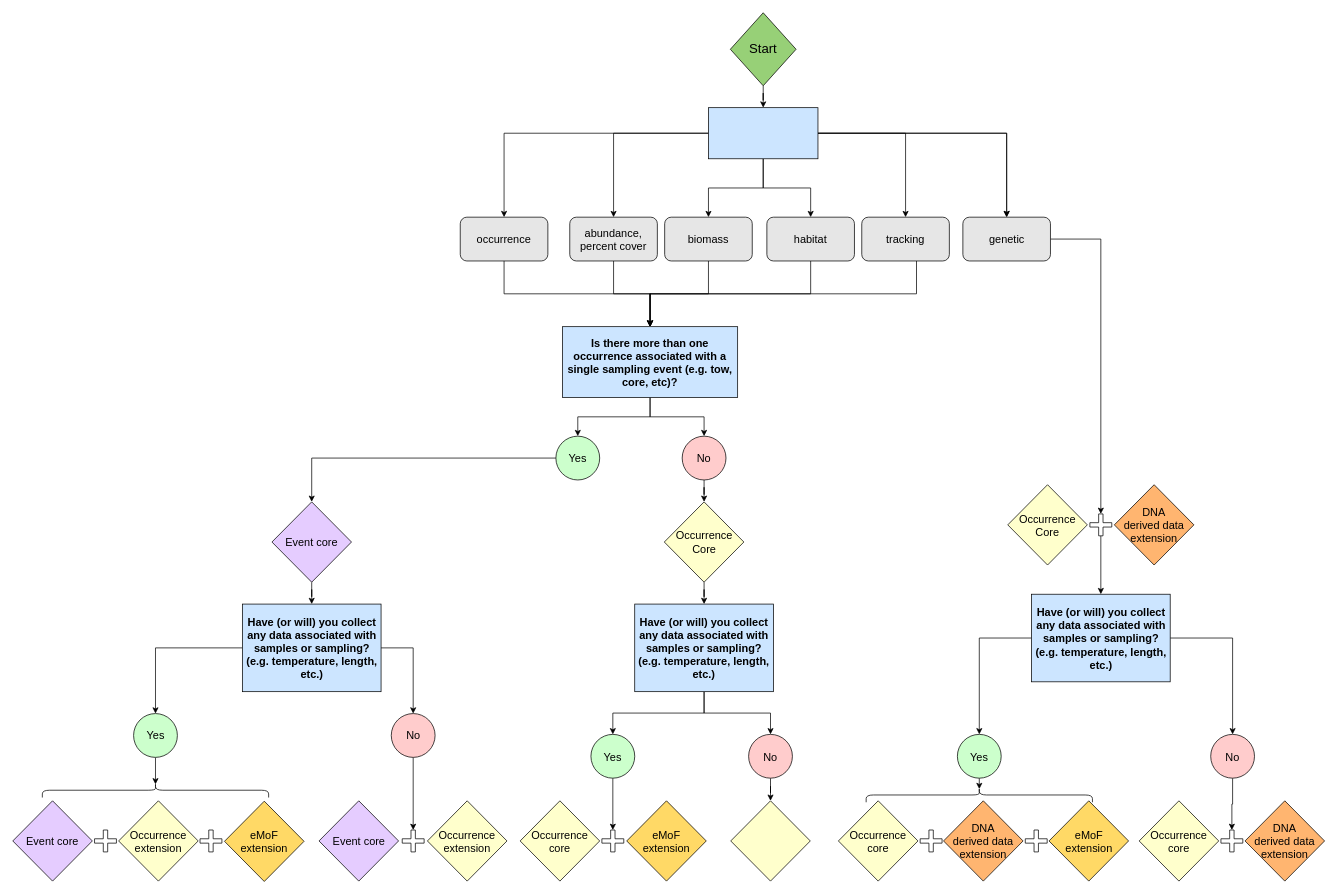
Some shapes in this 1337 by 894 pixel diagram are drawn without their labels. The centre of each missing label's shape, as x and y in pixels:
"Occurrence core only" belongs at point 770,840.
"What kind of data do you have, or will collect?" belongs at point 763,133.
